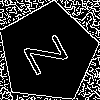Z: (23, 28, 77, 77)
